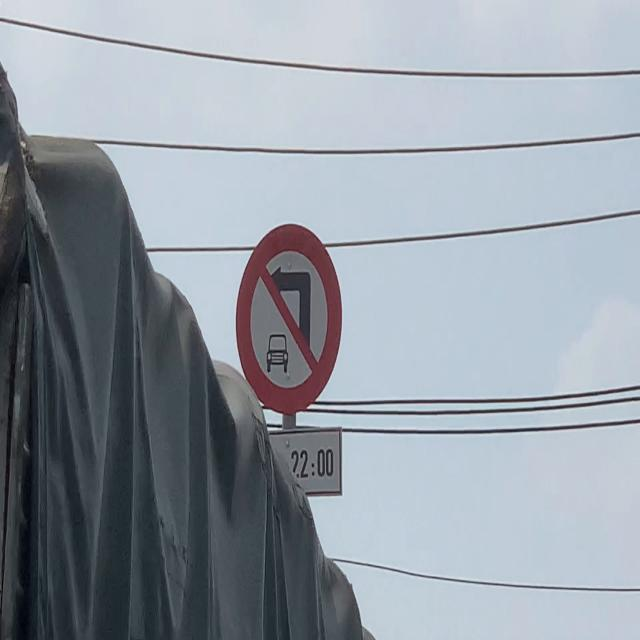Cam re trai: (235, 223, 344, 417)
